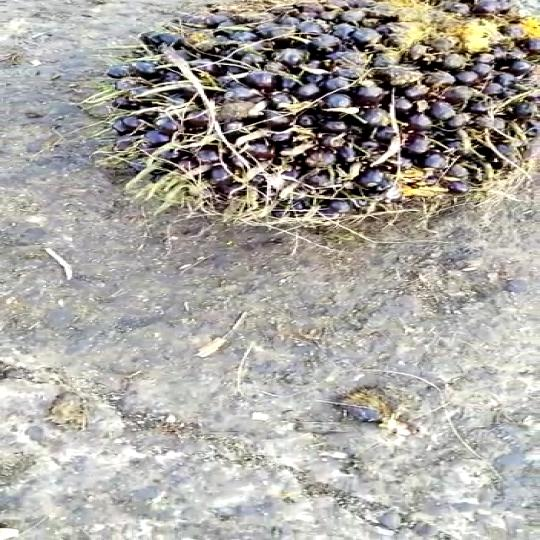mentah: (99, 0, 540, 226)
